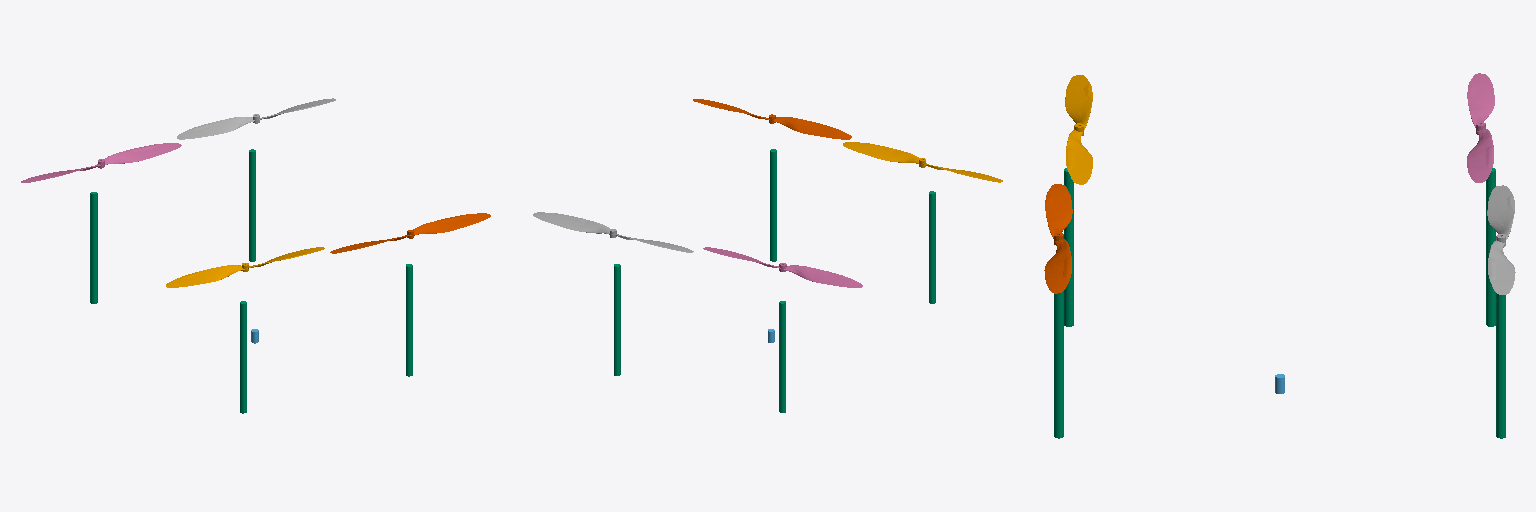
URDF robot description (iris_with_depth_cam):
<?xml version="1.0" ?>
<robot name="iris_with_depth_cam">

  <link name="world"/>
 
  <joint name="world_to_dummy" type="fixed">
    <parent link="world"/>
    <child link="dummy_link"/>
    <origin xyz="0 0 0" rpy="0 0 0"/>
  </joint>

  <joint name="dummy_to_base" type="fixed">
      <parent link="dummy_link"/>
      <child link="base_link"/>
  </joint>
  <joint name="iris/ground_truth/odometry_sensorgt_joint" type="fixed">
    <parent link="base_link"/>
    <child link="iris/ground_truth/odometry_sensorgt_link"/>
    <origin xyz="0      0      0.19492" rpy="0 0 0"/>
    <axis xyz="0 0 1"/>
    <limit lower="0.0" upper="0.0" effort="0.0" velocity="0.0"/>
  </joint>
  <joint name="iris/imu_joint" type="fixed">
    <parent link="base_link"/>
    <child link="imu_link"/>
    <origin xyz="0      0      0.19492" rpy="0 0 0"/>
    <axis xyz="0 0 1"/>
    <limit lower="0.0" upper="0.0" effort="0.0" velocity="0.0"/>
  </joint>
  <joint name="rotor_0_joint" type="revolute">
    <parent link="base_link"/>
    <child link="rotor_0"/>
    <origin xyz="0.13    -0.22     0.21792" rpy="0 0 0"/>
    <axis xyz="0 0 1"/>
    <limit lower="-1e+16" upper="1e+16" effort="0.0" velocity="0.0"/>
  </joint>
  <joint name="rotor_1_joint" type="revolute">
    <parent link="base_link"/>
    <child link="rotor_1"/>
    <origin xyz="-0.13     0.2      0.21792" rpy="0 0 0"/>
    <axis xyz="0 0 1"/>
    <limit lower="-1e+16" upper="1e+16" effort="0.0" velocity="0.0"/>
  </joint>
  <joint name="rotor_2_joint" type="revolute">
    <parent link="base_link"/>
    <child link="rotor_2"/>
    <origin xyz="0.13    0.22    0.21792" rpy="0 0 0"/>
    <axis xyz="0 0 1"/>
    <limit lower="-1e+16" upper="1e+16" effort="0.0" velocity="0.0"/>
  </joint>
  <joint name="rotor_3_joint" type="revolute">
    <parent link="base_link"/>
    <child link="rotor_3"/>
    <origin xyz="-0.13    -0.2      0.21792" rpy="0 0 0"/>
    <axis xyz="0 0 1"/>
    <limit lower="-1e+16" upper="1e+16" effort="0.0" velocity="0.0"/>
  </joint>
  <joint name="camera_joint" type="fixed">
    <parent link="base_link"/>
    <child link="cam_link"/> 
    <origin xyz="0      0      0" rpy="0 0 0"/>
    <axis xyz="0 0 1"/>
    <limit lower="0.0" upper="0.0" effort="0.0" velocity="0.0"/>
  </joint>
  <joint name="camera_joint_optical" type="fixed">
    <parent link="cam_link"/>
    <child link="cam_link_optical"/>
    <origin xyz="0      0      0" rpy="-1.5707 0 -1.5707"/>
  </joint>
  <link name="dummy_link" />
  <link name="base_link">
    <inertial>
      <mass value="1.5"/>
      <origin xyz="0 0 0" rpy="0 0 0"/>
      <inertia ixx="0.008" ixy="0" ixz="0" iyy="0.015" iyz="0" izz="0.017"/>
    </inertial>
    <collision name="base_link_collision_fl">
      <origin xyz="0.13    0.22    0.11492" rpy="0 0 0"/>
      <geometry>
        <box size="0.05 0.05 0.18"/>
      </geometry>
    </collision>
    <collision name="base_link_collision_fr">
      <origin xyz="0.13    -0.22     0.11492" rpy="0 0 0"/>
      <geometry>
        <box size="0.05 0.05 0.18"/>
      </geometry>
    </collision>
    <collision name="base_link_collision_br">
      <origin xyz="-0.13    -0.22     0.11492" rpy="0 0 0"/>
      <geometry>
        <box size="0.05 0.05 0.18"/>
      </geometry>
    </collision>
    <collision name="base_link_collision_bl">
      <origin xyz="-0.13     0.22     0.11492" rpy="0 0 0"/>
      <geometry>
        <box size="0.05 0.05 0.18"/>
      </geometry>
    </collision>
    <visual name="base_link_visual">
      <origin xyz="0      0      0.19492" rpy="0 0 0"/>
      <geometry>
        <mesh filename="package://auto_nav/model/iris_with_depth_cam_urdf/meshes_stl/iris.stl"/>
      </geometry>
    </visual>
    <visual name="front_left_leg_visual">
      <origin xyz="0.123   0.22    0.08492" rpy="0 0 0"/>
      <geometry>
        <cylinder radius="0.005" length="0.17"/>
      </geometry>
    </visual>
    <visual name="front_right_leg_visual">
      <origin xyz="0.123   -0.22     0.08492" rpy="0 0 0"/>
      <geometry>
        <cylinder radius="0.005" length="0.17"/>
      </geometry>
    </visual>
    <visual name="rear_left_leg_visual">
      <origin xyz="-0.14     0.21     0.08492" rpy="0 0 0"/>
      <geometry>
        <cylinder radius="0.005" length="0.17"/>
      </geometry>
    </visual>
    <visual name="rear_right_leg_visual">
      <origin xyz="-0.14    -0.21     0.08492" rpy="0 0 0"/>
      <geometry>
        <cylinder radius="0.005" length="0.17"/>
      </geometry>
    </visual>
  </link>
  <link name="iris/ground_truth/odometry_sensorgt_link">
    <inertial>
      <mass value="0.15"/>
      <origin xyz="0 0 0" rpy="0 0 0"/>
      <inertia ixx="0.0001" ixy="0" ixz="0" iyy="0.0002" iyz="0" izz="0.0002"/>
    </inertial>
  </link>
  <link name="imu_link">
    <inertial>
      <mass value="0.15"/>
      <origin xyz="0 0 0" rpy="0 0 0"/>
      <inertia ixx="0.00001" ixy="0" ixz="0" iyy="0.00002" iyz="0" izz="0.00002"/>
    </inertial>
  </link>
  <link name="rotor_0">
    <inertial>
      <mass value="0.025"/>
      <origin xyz="0 0 0" rpy="0 0 0"/>
      <inertia ixx="9.75e-06" ixy="0" ixz="0" iyy="0.000166704" iyz="0" izz="0.000167604"/>
    </inertial>
    <collision name="rotor_0_collision">
      <origin xyz="0 0 0" rpy="0 0 0"/>
      <geometry>
        <cylinder radius="0.1" length="0.005"/>
      </geometry>
    </collision>
    <visual name="rotor_0_visual">
      <origin xyz="0 0 0" rpy="0 0 0"/>
      <geometry>
        <mesh filename="package://auto_nav/model/iris_with_depth_cam_urdf/meshes_stl/iris_prop_ccw.stl"/>
      </geometry>
    </visual>
  </link>
  <link name="rotor_1">
    <inertial>
      <mass value="0.025"/>
      <origin xyz="0 0 0" rpy="0 0 0"/>
      <inertia ixx="9.75e-06" ixy="0" ixz="0" iyy="0.000166704" iyz="0" izz="0.000167604"/>
    </inertial>
    <collision name="rotor_1_collision">
      <origin xyz="0 0 0" rpy="0 0 0"/>
      <geometry>
        <cylinder radius="0.1" length="0.005"/>
      </geometry>
    </collision>
    <visual name="rotor_1_visual">
      <origin xyz="0 0 0" rpy="0 0 0"/>
      <geometry>
        <mesh filename="package://auto_nav/model/iris_with_depth_cam_urdf/meshes_stl/iris_prop_ccw.stl"/>
      </geometry>
    </visual>
  </link>
  <link name="rotor_2">
    <inertial>
      <mass value="0.025"/>
      <origin xyz="0 0 0" rpy="0 0 0"/>
      <inertia ixx="9.75e-06" ixy="0" ixz="0" iyy="0.000166704" iyz="0" izz="0.000167604"/>
    </inertial>
    <collision name="rotor_2_collision">
      <origin xyz="0 0 0" rpy="0 0 0"/>
      <geometry>
        <cylinder radius="0.1" length="0.005"/>
      </geometry>
    </collision>
    <visual name="rotor_2_visual">
      <origin xyz="0 0 0" rpy="0 0 0"/>
      <geometry>
        <mesh filename="package://auto_nav/model/iris_with_depth_cam_urdf/meshes_stl/iris_prop_cw.stl"/>
      </geometry>
    </visual>
  </link>
  <link name="rotor_3">
    <inertial>
      <mass value="0.025"/>
      <origin xyz="0 0 0" rpy="0 0 0"/>
      <inertia ixx="9.75e-06" ixy="0" ixz="0" iyy="0.000166704" iyz="0" izz="0.000167604"/>
    </inertial>
    <collision name="rotor_3_collision">
      <origin xyz="0 0 0" rpy="0 0 0"/>
      <geometry>
        <cylinder radius="0.1" length="0.005"/>
      </geometry>
    </collision>
    <visual name="rotor_3_visual">
      <origin xyz="0 0 0" rpy="0 0 0"/>
      <geometry>
        <mesh filename="package://auto_nav/model/iris_with_depth_cam_urdf/meshes_stl/iris_prop_cw.stl"/>
      </geometry>
    </visual>
  </link>
  <link name="cam_link">
    <inertial>
      <mass value="0.01"/>
      <origin xyz="0 0 0" rpy="0 0 0"/>
      <inertia ixx="0.001" ixy="0" ixz="0" iyy="0.001" iyz="0" izz="0.001"/>
    </inertial>
    <visual name="cam_link">
      <geometry>
        <cylinder radius=".005" length=".018"/>
      </geometry>
    </visual>
  </link>
  
  <link name="cam_link_optical">
    <sensor name="camera" type="depth" >
      <always_on>1</always_on>
      <update_rate>30</update_rate>
      <visualize>true</visualize>
      <camera>
          <horizontal_fov>1.047</horizontal_fov>
          <image>
              <width>640</width>
              <height>480</height>
              <format>R8G8B8</format>
          </image>
          <depth_camera>
              <output>depth_image</output>
          </depth_camera>
      </camera>
    </sensor>
  </link>

  <gazebo reference="cam_link_optical">
    <sensor name="camera" type="depth" >
      <always_on>1</always_on>
      <update_rate>30</update_rate>
      <visualize>true</visualize>
      <camera>
          <horizontal_fov>1.047</horizontal_fov>
          <image>
              <width>640</width>
              <height>480</height>
              <format>R8G8B8</format>
          </image>
          <depth_camera>
              <output>depth_image</output>
          </depth_camera>
      </camera>
      <plugin name="camera_controller" filename="libgazebo_ros_openni_kinect.so">
          <baseline>0.2</baseline>
          <alwaysOn>true</alwaysOn>
          <updateRate>0</updateRate>
          <cameraName>camera</cameraName>
          <frameName>cam_link_optical</frameName>
          <imageTopicName>rgb/image_raw</imageTopicName>
          <depthImageTopicName>depth/image_raw</depthImageTopicName>
          <pointCloudTopicName>depth/points</pointCloudTopicName>
          <cameraInfoTopicName>rgb/camera_info</cameraInfoTopicName>
          <depthImageCameraInfoTopicName>depth/camera_info</depthImageCameraInfoTopicName>
          <pointCloudCutoff>0.5</pointCloudCutoff>
          <pointCloudCutoffMax>3.0</pointCloudCutoffMax>
          <distortionK1>0</distortionK1>
          <distortionK2>0</distortionK2>
          <distortionK3>0</distortionK3>
          <distortionT1>0</distortionT1>
          <distortionT2>0</distortionT2>
          <CxPrime>0</CxPrime>
          <Cx>0</Cx>
          <Cy>0</Cy>
          <focalLength>0</focalLength>
          <hackBaseline>0</hackBaseline>
      </plugin>
    </sensor>
  </gazebo>

  <gazebo reference="imu_link">
    <sensor name="imu_sensor" type="imu">
      <pose>0 0 0 3.141593 0 0</pose>
      <always_on>1</always_on>
      <update_rate>1000.0</update_rate>
      <plugin name="gazebo_ros_imu" filename="libgazebo_ros_imu_sensor.so">
        <ros>
          <namespace>/</namespace>
          <remapping>~/out:=imu/data</remapping>
        </ros>
        <frameName>imu_link</frameName>
        <topicName>imu/data</topicName>
      </plugin>
    </sensor>
    <!-- <sensor name="imu_sensor_ardupilot" type="imu">
      <pose>0 0 0 3.141593 0 0</pose>
      <always_on>1</always_on>
      <update_rate>1000.0</update_rate>
    </sensor> -->
  </gazebo>

  <gazebo>

    <plugin name="p3d_ground_truth" filename="libgazebo_ros_p3d.so">
      <ros>
        <namespace>/</namespace>
        <remapping>~/out:=/iris/odom</remapping>
      </ros>
      <frameName>world</frameName>
      <bodyName>base_link</bodyName>
      <topicName>/iris/odom</topicName>
      <updateRate>100</updateRate>
      <publishTf>true</publishTf>
    </plugin>

    <plugin name="joint_state_publisher" filename="libgazebo_ros_joint_state_publisher.so">
        <update_rate>30</update_rate>
        <always_on>true</always_on>
    </plugin>
    
    <plugin name="rotor_0_blade_1" filename="libLiftDragPlugin.so">
      <a0>0.3</a0>
      <alpha_stall>1.4</alpha_stall>
      <cla>4.2500</cla>
      <cda>0.10</cda>
      <cma>0.00</cma>
      <cla_stall>-0.025</cla_stall>
      <cda_stall>0.0</cda_stall>
      <cma_stall>0.0</cma_stall>
      <area>0.002</area>
      <air_density>1.2041</air_density>
      <cp>0.084 0 0</cp>
      <forward>0 1 0</forward>
      <upward>0 0 1</upward>
      <link_name>rotor_0</link_name>
    </plugin>
    <plugin name="rotor_0_blade_2" filename="libLiftDragPlugin.so">
      <a0>0.3</a0>
      <alpha_stall>1.4</alpha_stall>
      <cla>4.2500</cla>
      <cda>0.10</cda>
      <cma>0.00</cma>
      <cla_stall>-0.025</cla_stall>
      <cda_stall>0.0</cda_stall>
      <cma_stall>0.0</cma_stall>
      <area>0.002</area>
      <air_density>1.2041</air_density>
      <cp>-0.084 0 0</cp>
      <forward>0 -1 0</forward>
      <upward>0 0 1</upward>
      <link_name>rotor_0</link_name>
    </plugin>

    <plugin name="rotor_1_blade_1" filename="libLiftDragPlugin.so">
      <a0>0.3</a0>
      <alpha_stall>1.4</alpha_stall>
      <cla>4.2500</cla>
      <cda>0.10</cda>
      <cma>0.00</cma>
      <cla_stall>-0.025</cla_stall>
      <cda_stall>0.0</cda_stall>
      <cma_stall>0.0</cma_stall>
      <area>0.002</area>
      <air_density>1.2041</air_density>
      <cp>0.084 0 0</cp>
      <forward>0 1 0</forward>
      <upward>0 0 1</upward>
      <link_name>rotor_1</link_name>
    </plugin>
    <plugin name="rotor_1_blade_2" filename="libLiftDragPlugin.so">
      <a0>0.3</a0>
      <alpha_stall>1.4</alpha_stall>
      <cla>4.2500</cla>
      <cda>0.10</cda>
      <cma>0.00</cma>
      <cla_stall>-0.025</cla_stall>
      <cda_stall>0.0</cda_stall>
      <cma_stall>0.0</cma_stall>
      <area>0.002</area>
      <air_density>1.2041</air_density>
      <cp>-0.084 0 0</cp>
      <forward>0 -1 0</forward>
      <upward>0 0 1</upward>
      <link_name>rotor_1</link_name>
    </plugin>

    <plugin name="rotor_2_blade_1" filename="libLiftDragPlugin.so">
      <a0>0.3</a0>
      <alpha_stall>1.4</alpha_stall>
      <cla>4.2500</cla>
      <cda>0.10</cda>
      <cma>0.00</cma>
      <cla_stall>-0.025</cla_stall>
      <cda_stall>0.0</cda_stall>
      <cma_stall>0.0</cma_stall>
      <area>0.002</area>
      <air_density>1.2041</air_density>
      <cp>0.084 0 0</cp>
      <forward>0 -1 0</forward>
      <upward>0 0 1</upward>
      <link_name>rotor_2</link_name>
    </plugin>
    <plugin name="rotor_2_blade_2" filename="libLiftDragPlugin.so">
      <a0>0.3</a0>
      <alpha_stall>1.4</alpha_stall>
      <cla>4.2500</cla>
      <cda>0.10</cda>
      <cma>0.00</cma>
      <cla_stall>-0.025</cla_stall>
      <cda_stall>0.0</cda_stall>
      <cma_stall>0.0</cma_stall>
      <area>0.002</area>
      <air_density>1.2041</air_density>
      <cp>-0.084 0 0</cp>
      <forward>0 1 0</forward>
      <upward>0 0 1</upward>
      <link_name>rotor_2</link_name>
    </plugin>

    <plugin name="rotor_3_blade_1" filename="libLiftDragPlugin.so">
      <a0>0.3</a0>
      <alpha_stall>1.4</alpha_stall>
      <cla>4.2500</cla>
      <cda>0.10</cda>
      <cma>0.00</cma>
      <cla_stall>-0.025</cla_stall>
      <cda_stall>0.0</cda_stall>
      <cma_stall>0.0</cma_stall>
      <area>0.002</area>
      <air_density>1.2041</air_density>
      <cp>0.084 0 0</cp>
      <forward>0 -1 0</forward>
      <upward>0 0 1</upward>
      <link_name>rotor_3</link_name>
    </plugin>
    <plugin name="rotor_3_blade_2" filename="libLiftDragPlugin.so">
      <a0>0.3</a0>
      <alpha_stall>1.4</alpha_stall>
      <cla>4.2500</cla>
      <cda>0.10</cda>
      <cma>0.00</cma>
      <cla_stall>-0.025</cla_stall>
      <cda_stall>0.0</cda_stall>
      <cma_stall>0.0</cma_stall>
      <area>0.002</area>
      <air_density>1.2041</air_density>
      <cp>-0.084 0 0</cp>
      <forward>0 1 0</forward>
      <upward>0 0 1</upward>
      <link_name>rotor_3</link_name>
    </plugin>

    <plugin name="arducopter_plugin" filename="libArduPilotPlugin.so">
        <fdm_addr>127.0.0.1</fdm_addr>
        <fdm_port_in>9002</fdm_port_in>
        <fdm_port_out>9003</fdm_port_out>
        <!--
            Require by APM :
            Only change model and gazebo from XYZ to XY-Z coordinates
        -->
        <modelXYZToAirplaneXForwardZDown>0 0 0 3.141593 0 0</modelXYZToAirplaneXForwardZDown>
        <gazeboXYZToNED>0 0 0 3.141593 0 0</gazeboXYZToNED>
        <imuName>imu_sensor</imuName>
        <connectionTimeoutMaxCount>5</connectionTimeoutMaxCount>
        <control channel="0">
        <!--
            incoming control command [0, 1]
            so offset it by 0 to get [0, 1]
            and divide max target by 1.
            offset = 0
            multiplier = 838 max rpm / 1 = 838
          -->
          <type>VELOCITY</type>
          <offset>0</offset>
          <p_gain>0.20</p_gain>
          <i_gain>0</i_gain>
          <d_gain>0</d_gain>
          <i_max>0</i_max>
          <i_min>0</i_min>
          <cmd_max>2.5</cmd_max>
          <cmd_min>-2.5</cmd_min>
          <jointName>rotor_0_joint</jointName>
          <multiplier>838</multiplier>
          <controlVelocitySlowdownSim>1</controlVelocitySlowdownSim>
        </control>
        <control channel="1">
          <type>VELOCITY</type>
          <offset>0</offset>
          <p_gain>0.20</p_gain>
          <i_gain>0</i_gain>
          <d_gain>0</d_gain>
          <i_max>0</i_max>
          <i_min>0</i_min>
          <cmd_max>2.5</cmd_max>
          <cmd_min>-2.5</cmd_min>
          <jointName>rotor_1_joint</jointName>
          <multiplier>838</multiplier>
          <controlVelocitySlowdownSim>1</controlVelocitySlowdownSim>
        </control>
        <control channel="2">
          <type>VELOCITY</type>
          <offset>0</offset>
          <p_gain>0.20</p_gain>
          <i_gain>0</i_gain>
          <d_gain>0</d_gain>
          <i_max>0</i_max>
          <i_min>0</i_min>
          <cmd_max>2.5</cmd_max>
          <cmd_min>-2.5</cmd_min>
          <jointName>rotor_2_joint</jointName>
          <multiplier>-838</multiplier>
          <controlVelocitySlowdownSim>1</controlVelocitySlowdownSim>
        </control>
        <control channel="3">
          <type>VELOCITY</type>
          <offset>0</offset>
          <p_gain>0.20</p_gain>
          <i_gain>0</i_gain>
          <d_gain>0</d_gain>
          <i_max>0</i_max>
          <i_min>0</i_min>
          <cmd_max>2.5</cmd_max>
          <cmd_min>-2.5</cmd_min>
          <jointName>rotor_3_joint</jointName>
          <multiplier>-838</multiplier>
          <controlVelocitySlowdownSim>1</controlVelocitySlowdownSim>
        </control>
      </plugin>
  </gazebo>
</robot>

--- Render facts (derived) ---
Views: 3 orthographic renders of the robot side by side, from view 1: azimuth 30°, elevation 25°; view 2: azimuth 150°, elevation 25°; view 3: azimuth 270°, elevation 25°.
Model iris_with_depth_cam with 11 links and 10 joints (4 revolute, 6 fixed), rooted at world, posed all joints at 0.
Links seen in each view (by area): view 1: base_link, rotor_3, rotor_1, rotor_0, rotor_2; view 2: base_link, rotor_2, rotor_3, rotor_1, rotor_0; view 3: base_link, rotor_2, rotor_3, rotor_0, rotor_1.
Boxes of the visible links, left/top/right/bottom form: base_link: left=90, top=149, right=412, bottom=413; rotor_3: left=166, top=247, right=324, bottom=287; rotor_1: left=21, top=143, right=181, bottom=182; rotor_0: left=330, top=213, right=490, bottom=253; rotor_2: left=177, top=98, right=335, bottom=139; base_link: left=614, top=149, right=935, bottom=412; rotor_2: left=533, top=212, right=693, bottom=252; rotor_3: left=843, top=142, right=1002, bottom=182; rotor_1: left=703, top=247, right=862, bottom=287; rotor_0: left=693, top=99, right=851, bottom=139; base_link: left=1054, top=168, right=1505, bottom=438; rotor_2: left=1487, top=185, right=1515, bottom=294; rotor_3: left=1065, top=75, right=1092, bottom=184; rotor_0: left=1044, top=184, right=1072, bottom=293; rotor_1: left=1467, top=73, right=1494, bottom=182.
Size in the robot's own frame: 0.5214 by 0.4686 by 0.232 metres.
Meshes: 3 distinct files referenced, 4 mesh visuals loaded (2 binary STL); not drawn: 1 (reference not matched to a file when rendering).